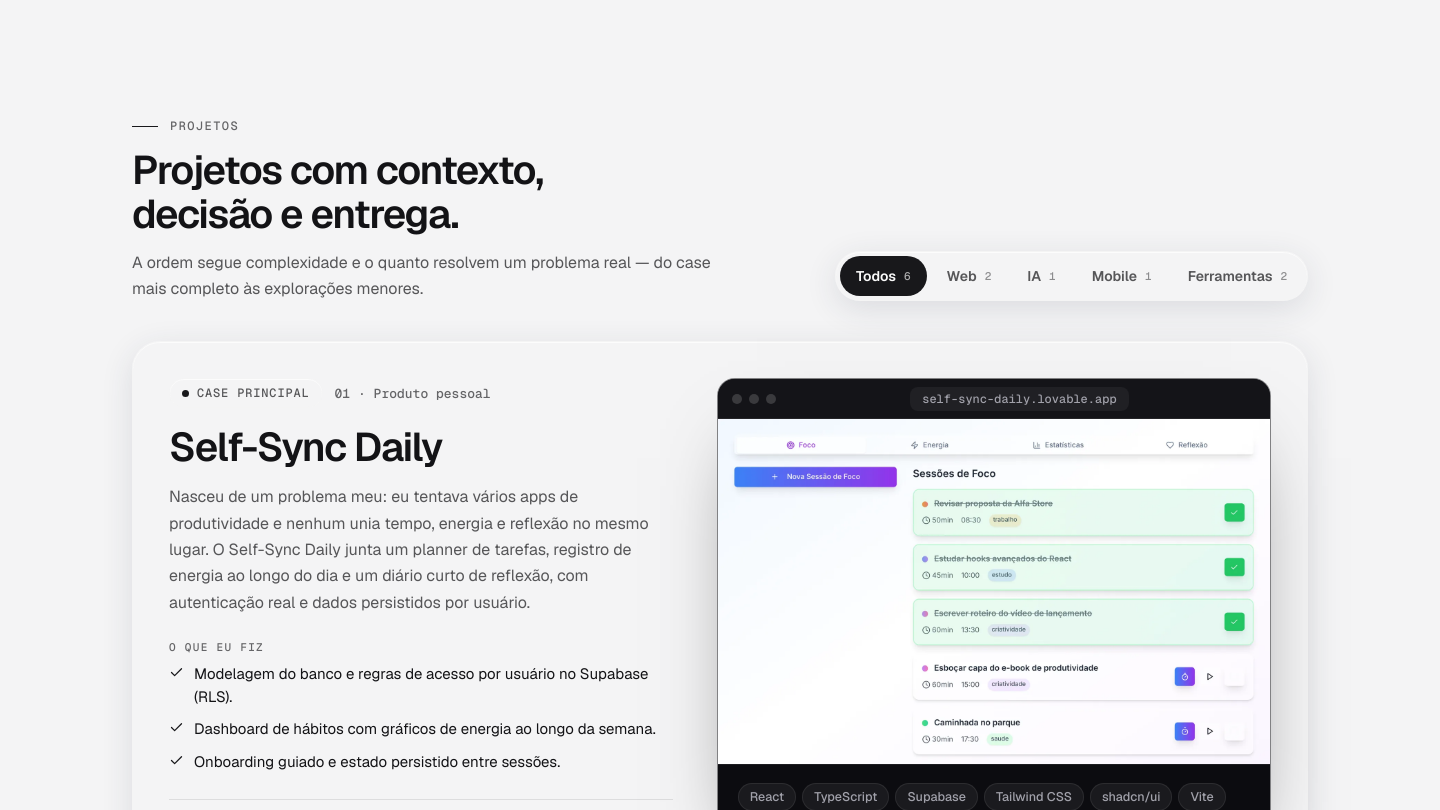
Test: Projects › a filter that leaves out the main case hides it and keeps the row numbers
The image size is (1440, 810).
Click the button "Mobile 1".
click(1122, 276)  # box x1=1076 y1=256 x2=1168 y2=296
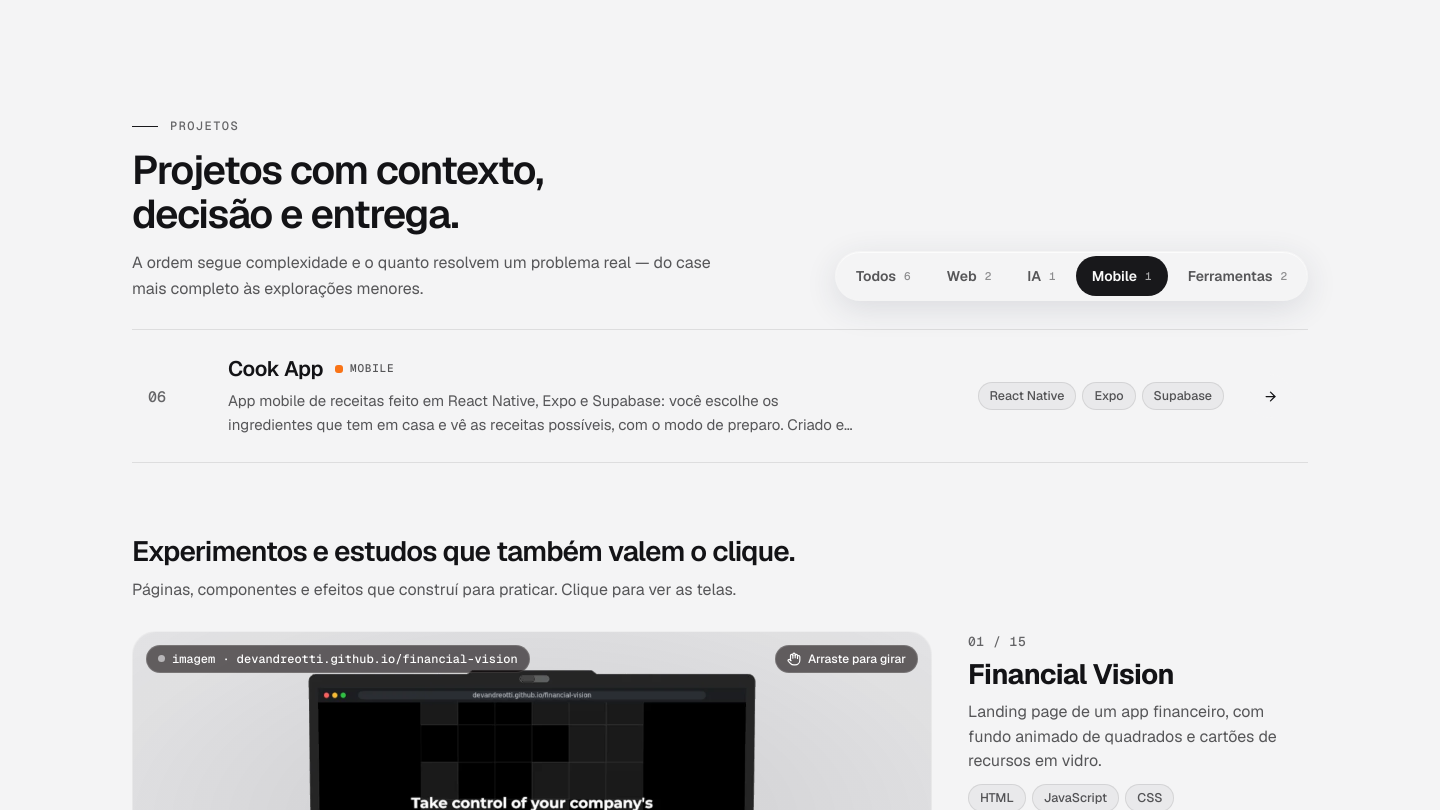
Expected: the text "06" is shown, x1=148 y1=386 x2=166 y2=406
Expected: the heading "Self-Sync Daily" is gone
